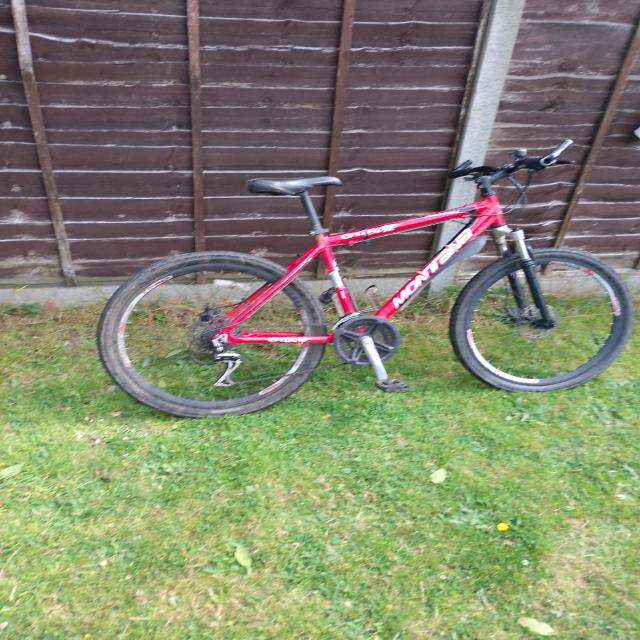bicycle: (89, 128, 632, 426)
